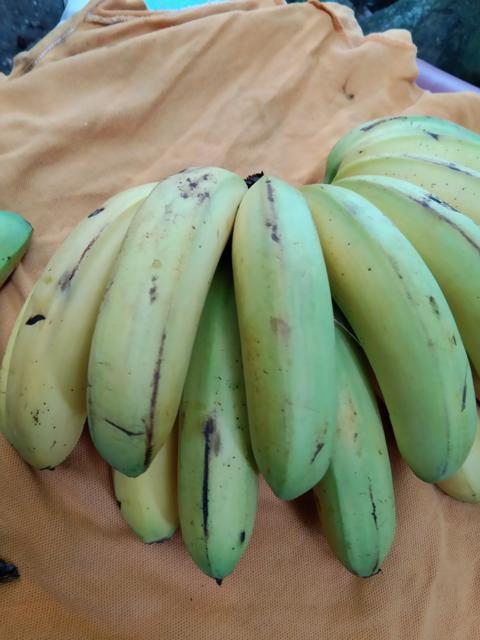ripe: (91, 157, 245, 478), (228, 179, 334, 518), (6, 170, 122, 465), (166, 386, 252, 579)
